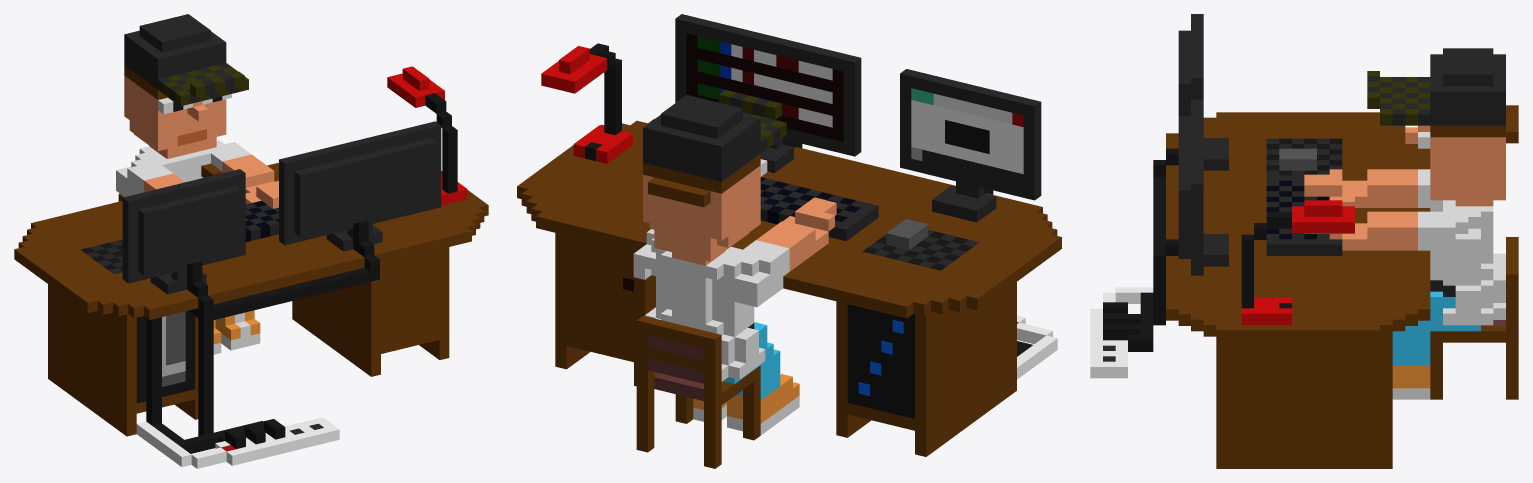
The model's file is user.glb.
3 views of the same model, side by side, from view 1: azimuth 30°, elevation 25°; view 2: azimuth 150°, elevation 25°; view 3: azimuth 270°, elevation 25° (orthographic). The views are drawn at different scales.
Visible parts, largest first — view 1: I; view 2: I; view 3: I.
Part boxes in pixels (<box>): I: <box>14,14,488,468</box>; I: <box>517,14,1061,468</box>; I: <box>1090,14,1518,468</box>.
Bounding box in the file's own units: 4.1 × 2.8 × 3.4.
1 material, 1 textured.
